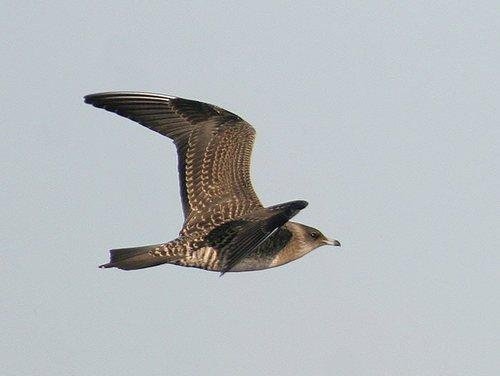bird: (83, 89, 341, 279)
